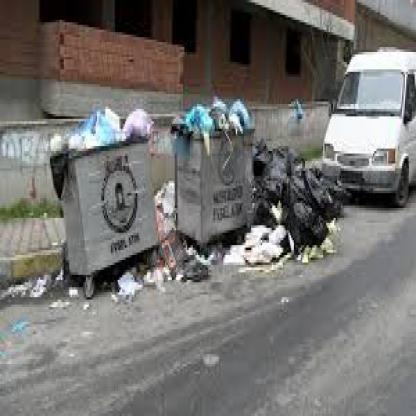Garbage: (257, 141, 348, 265), (165, 237, 259, 278), (54, 116, 155, 144), (176, 102, 251, 132), (5, 277, 80, 302), (114, 272, 172, 302), (159, 186, 175, 258)
